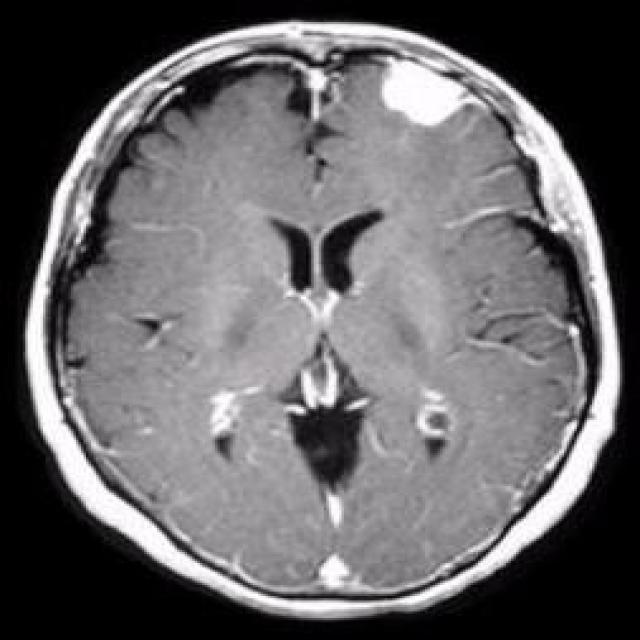Tumor-Cell: (367, 39, 472, 154)
